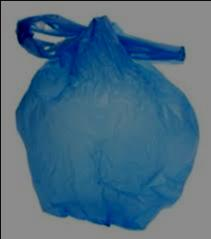Plastic: (11, 2, 204, 238)
